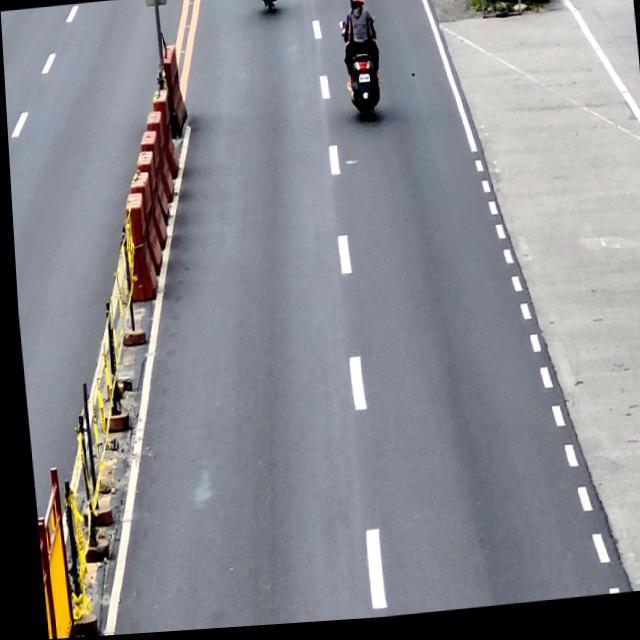License-Plate: (356, 76, 370, 89)
Motorcycle: (338, 17, 383, 129)
